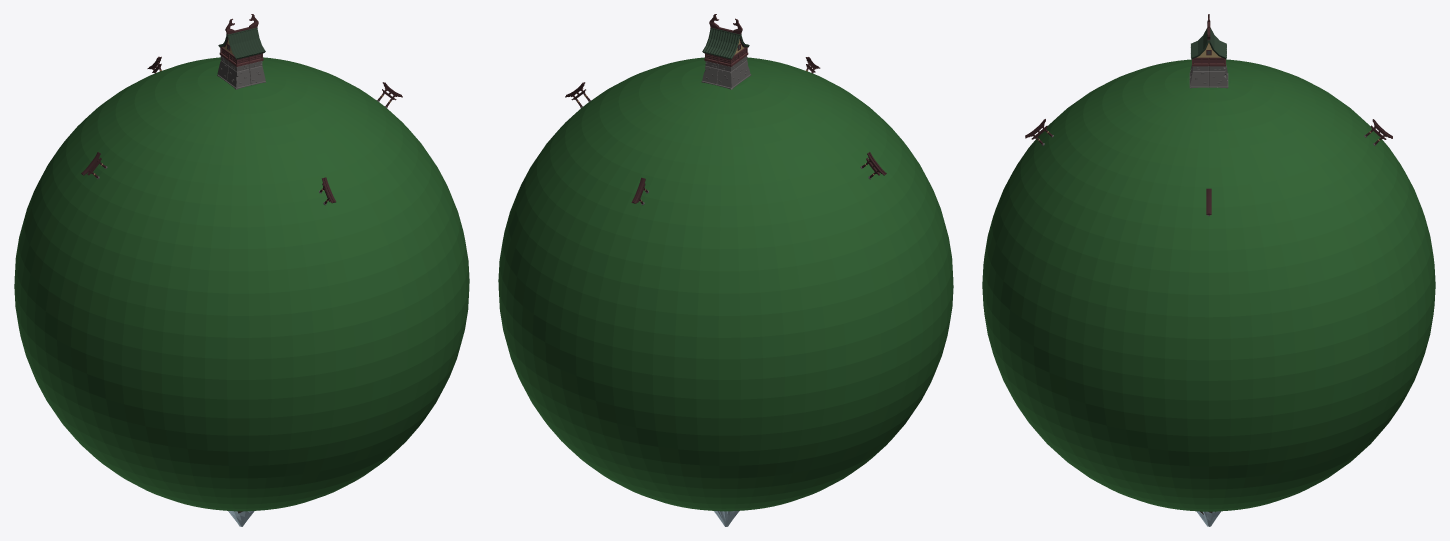
File: battle_planet.glb
3 views of the same model, side by side, from view 1: azimuth 30°, elevation 25°; view 2: azimuth 150°, elevation 25°; view 3: azimuth 270°, elevation 25° (orthographic).
Parts seen in each view (by area): view 1: Sphere, SM_Bld_Tower_01; view 2: Sphere, SM_Bld_Tower_01; view 3: Sphere, SM_Bld_Tower_01.
Boxes of the visible parts, x1,y1,x2,y2 form: Sphere: [14, 57, 469, 511]; SM_Bld_Tower_01: [217, 14, 265, 89]; Sphere: [498, 57, 953, 511]; SM_Bld_Tower_01: [701, 14, 751, 89]; Sphere: [982, 59, 1435, 511]; SM_Bld_Tower_01: [1189, 14, 1228, 88].
Size of the model in its own units: 316 by 391 by 316.
7 materials, 6 textured.
